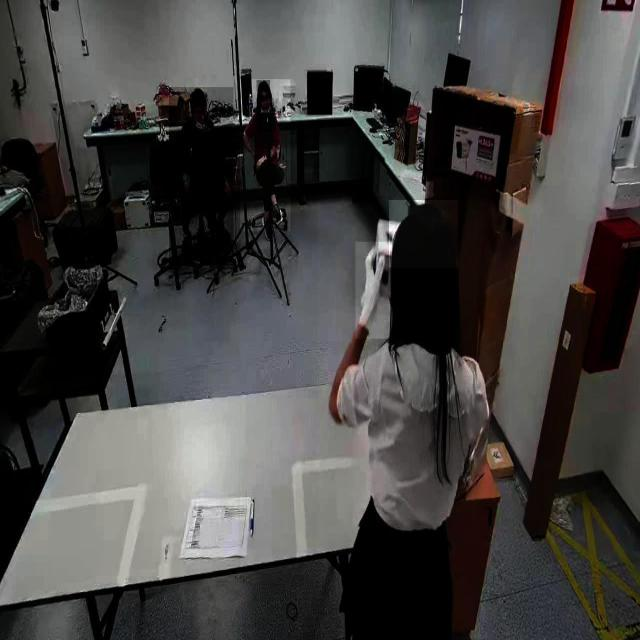face_nomask: (259, 95, 270, 111)
hand_glove: (356, 242, 390, 338)
head_nohelmet: (389, 200, 459, 268), (190, 87, 206, 104), (256, 80, 270, 92)
person: (318, 198, 490, 639), (169, 87, 234, 267), (240, 79, 291, 232)
